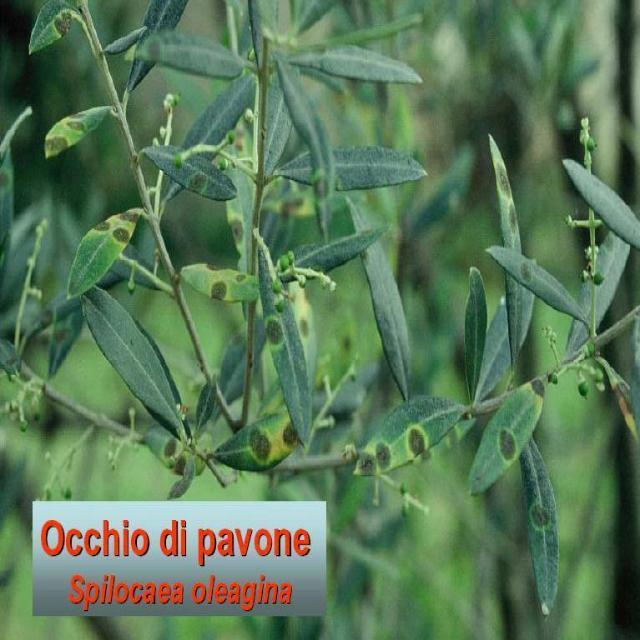OlivePeacockSpot: (254, 229, 312, 445), (469, 376, 546, 494), (354, 396, 462, 479), (66, 209, 144, 299), (521, 444, 559, 616), (486, 248, 578, 316), (141, 144, 236, 200), (214, 408, 288, 472), (44, 105, 115, 159), (182, 262, 259, 302), (28, 0, 76, 55)
